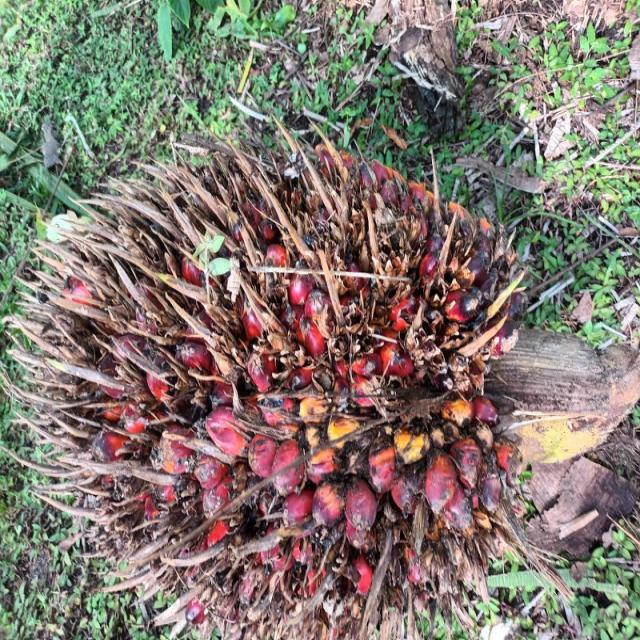fraksi 1: (1, 81, 545, 617)
